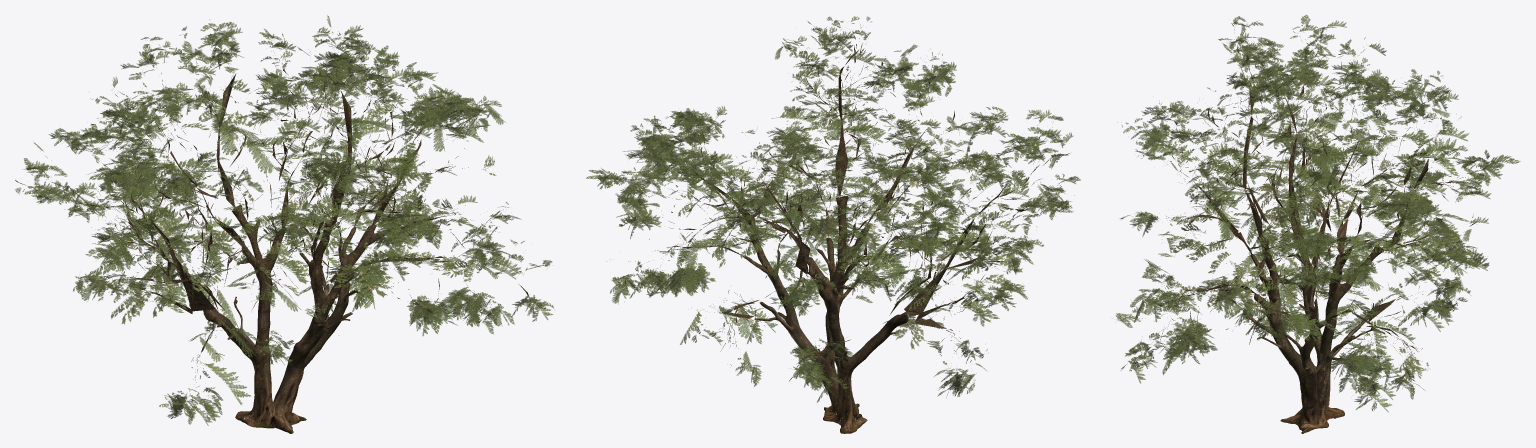
File: jacaranda_lite.glb
3 renders of one model, left to right at view 1: azimuth 30°, elevation 25°; view 2: azimuth 150°, elevation 25°; view 3: azimuth 270°, elevation 25°, orthographic. The views are drawn at different scales.
Parts seen in each view (by area): view 1: Jacaranda leaves, Jacaranda branches, Jacaranda trunk; view 2: Jacaranda leaves, Jacaranda branches, Jacaranda trunk; view 3: Jacaranda leaves, Jacaranda branches, Jacaranda trunk.
Boxes of the visible parts, bbox=[...] form: Jacaranda leaves: bbox=[15, 15, 554, 425]; Jacaranda branches: bbox=[15, 19, 535, 410]; Jacaranda trunk: bbox=[203, 205, 383, 433]; Jacaranda leaves: bbox=[586, 16, 1080, 402]; Jacaranda branches: bbox=[608, 21, 1074, 384]; Jacaranda trunk: bbox=[743, 196, 908, 433]; Jacaranda leaves: bbox=[1116, 14, 1520, 412]; Jacaranda branches: bbox=[1117, 23, 1483, 397]; Jacaranda trunk: bbox=[1248, 236, 1385, 433].
Bounding box in the file's own units: 6.97 × 5.6 × 5.57.
Materials: 3 (3 with a texture image).
